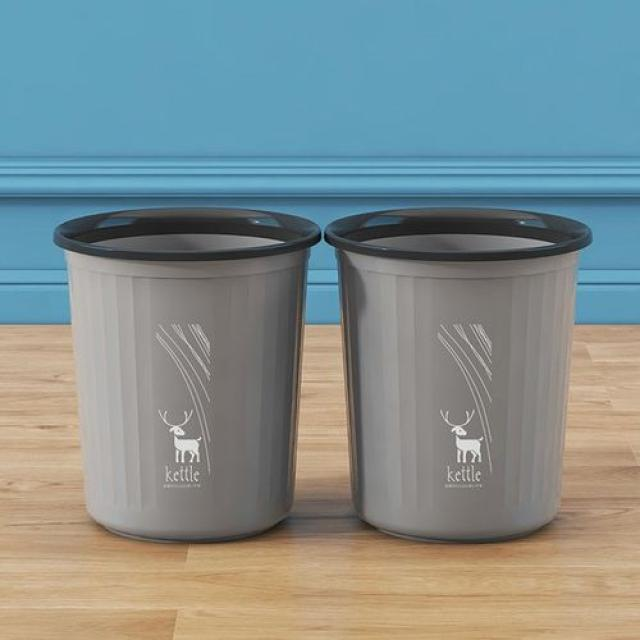dustbin: (49, 201, 323, 546)
